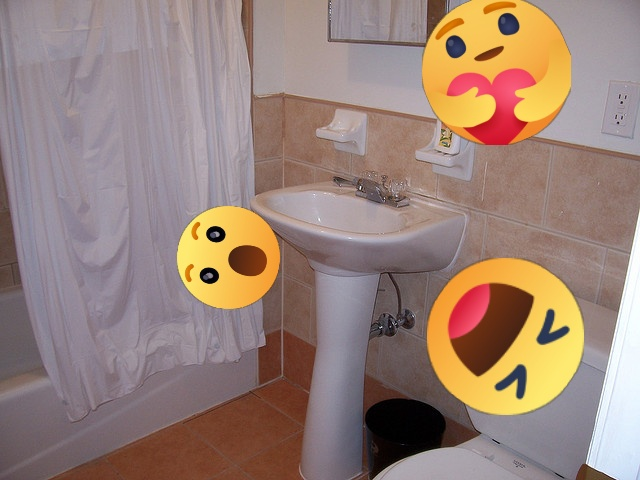care: (422, 0, 571, 145)
haha: (427, 258, 584, 415)
wow: (177, 206, 280, 309)
